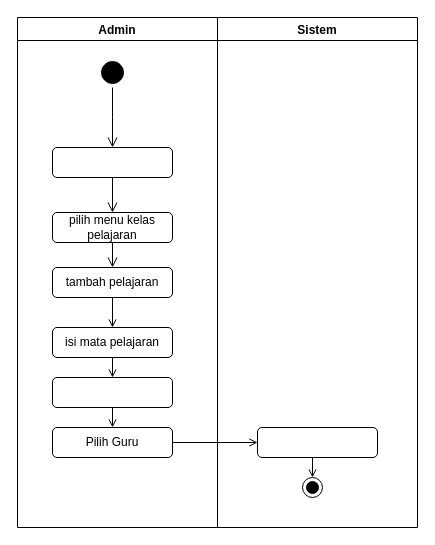
Image size: 435x545. Some labels were removed from this diagram. Here are the shapes that lost their labels. From the top down, the centre of each, then its label:
At pixel 112 162: "admindashbord".
At pixel 112 392: "Pilih kelas".
At pixel 317 442: "Berhasil tambah matpel".
